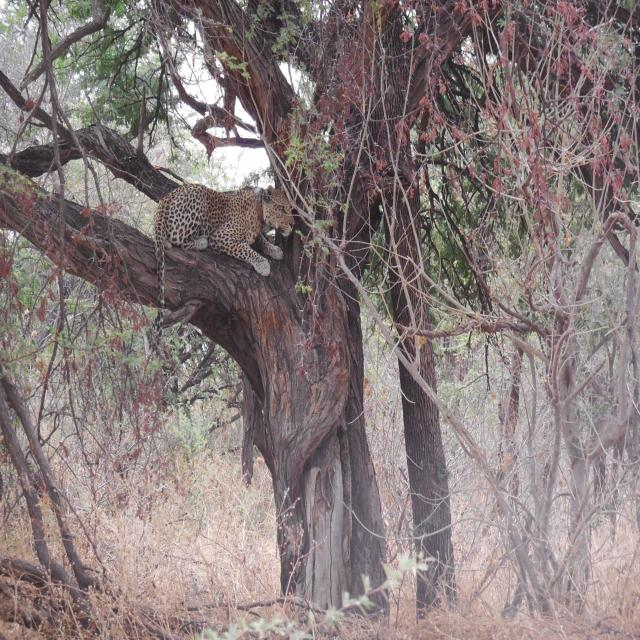Leopard: (147, 171, 294, 349)
